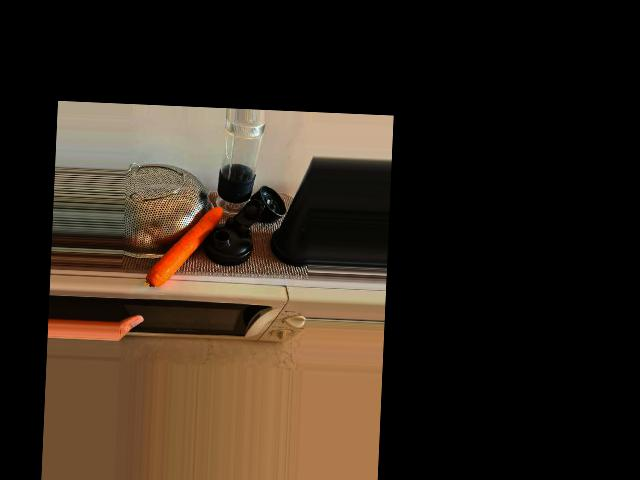carrot: (146, 204, 222, 290)
